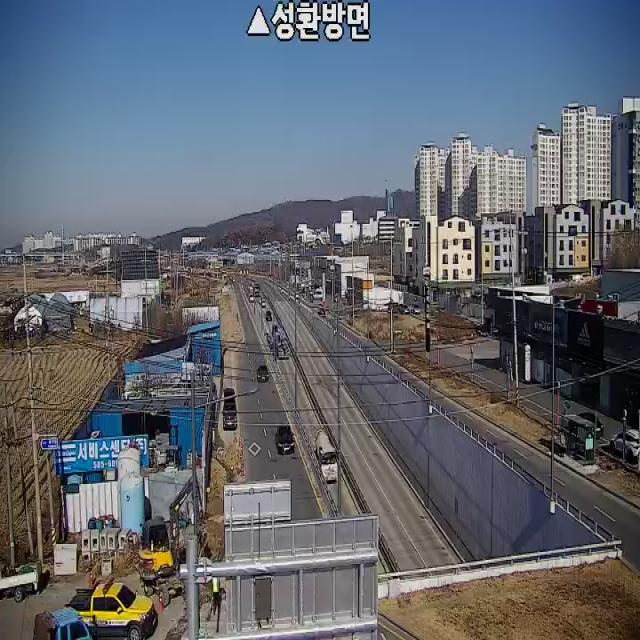Car: (611, 429, 640, 465), (573, 411, 604, 441), (275, 425, 295, 454), (257, 365, 269, 382), (266, 310, 272, 321), (262, 296, 266, 307)
Truck: (64, 577, 158, 640), (136, 507, 189, 609), (34, 607, 99, 640), (0, 558, 43, 602), (314, 428, 338, 481), (266, 323, 292, 360), (223, 388, 237, 428)
